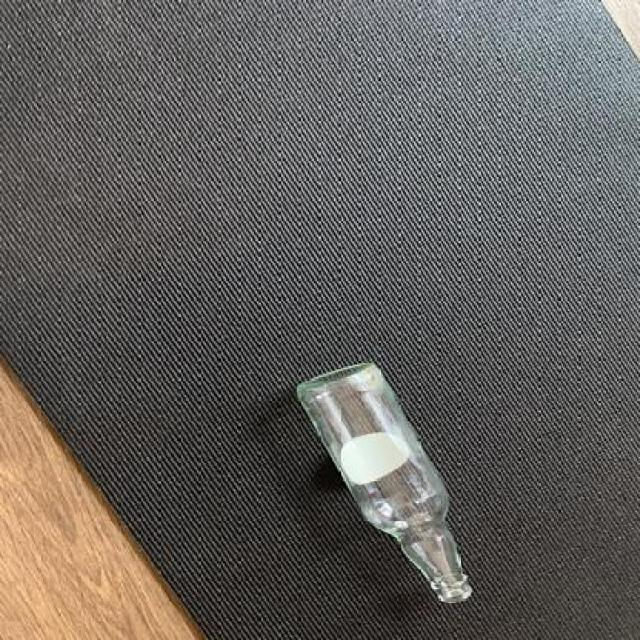trash: (300, 359, 492, 621)
